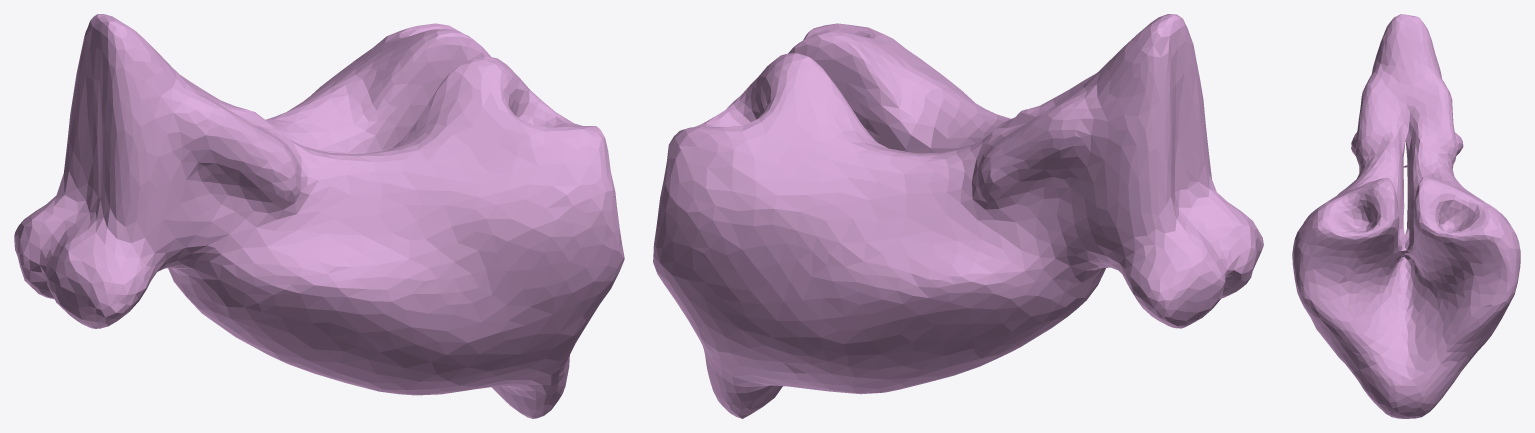
The picture shows the model from 3 angles, left to right: view 1: azimuth 30°, elevation 25°; view 2: azimuth 150°, elevation 25°; view 3: azimuth 270°, elevation 25°; orthographic projection. The views are drawn at different scales.
Visible parts, largest first — view 1: 795.obj; view 2: 795.obj; view 3: 795.obj.
Part boxes in pixels (box(x1,y1,x2,y2)): 795.obj: box(14, 14, 624, 418); 795.obj: box(653, 14, 1263, 418); 795.obj: box(1292, 14, 1520, 418).
Size of the model in its own units: 3240 by 2952 by 2140.
